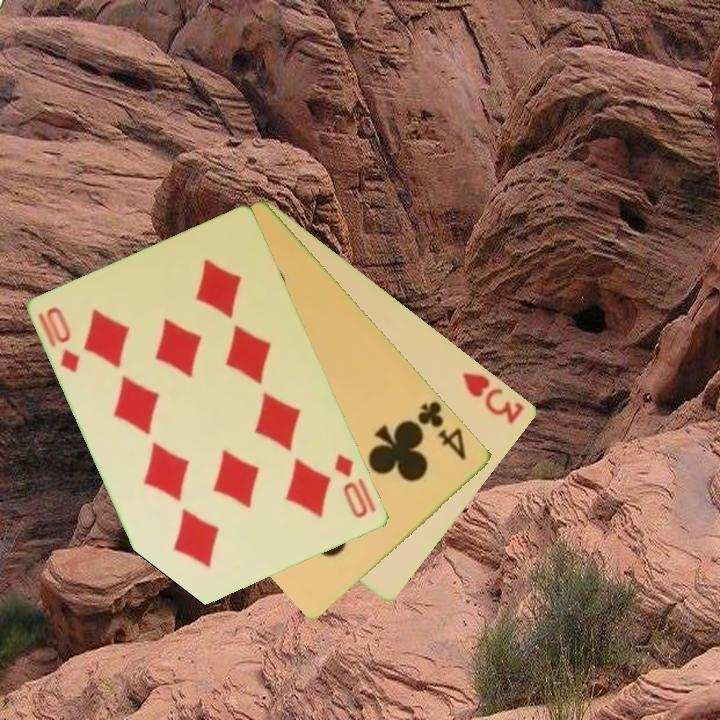10d: (331, 450, 380, 521), (43, 303, 84, 376)
3h: (458, 368, 528, 427)
4c: (414, 397, 470, 464)
